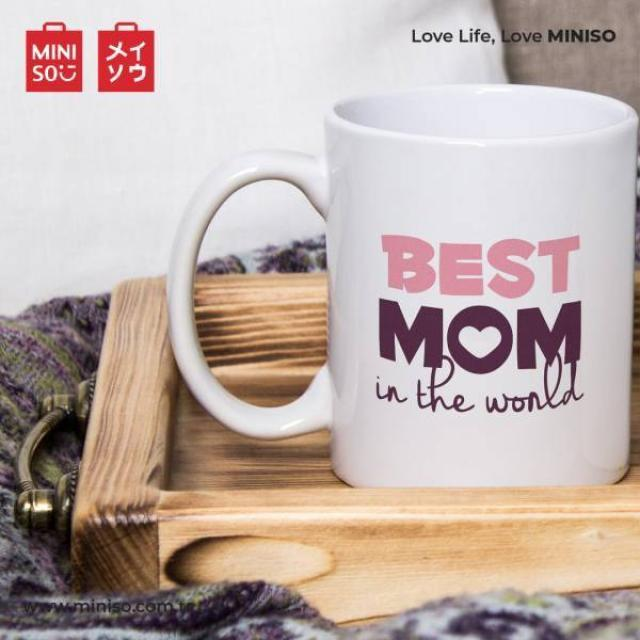Coffee Mug: (165, 85, 640, 488)
